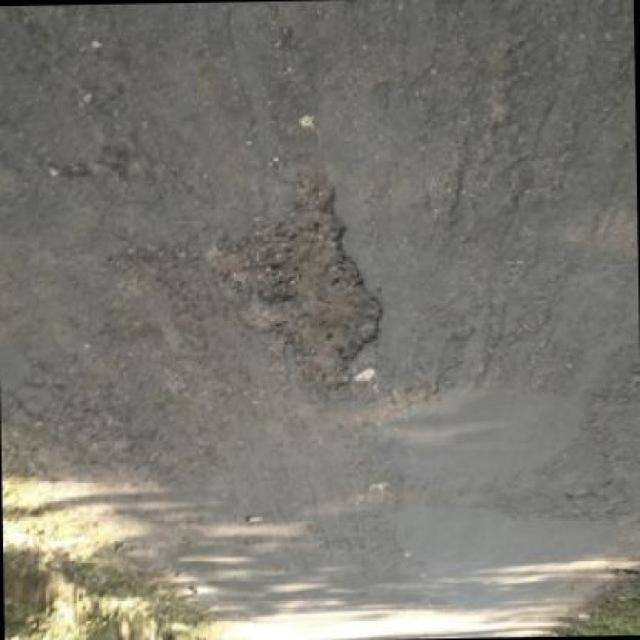pothole: (206, 168, 392, 406)
